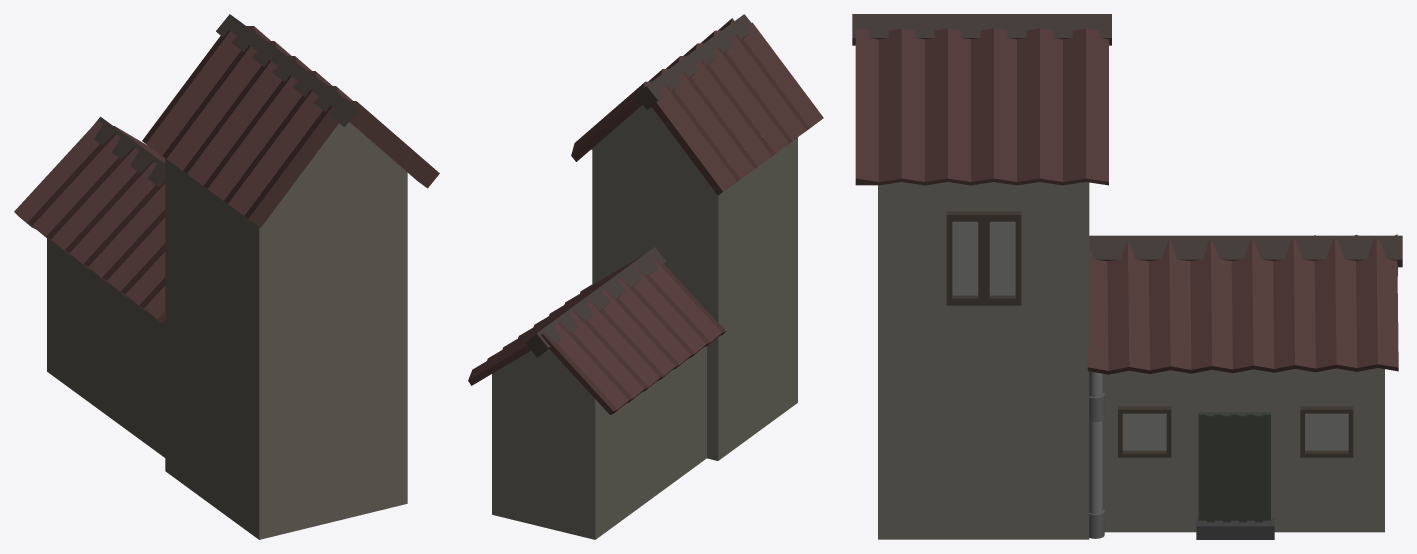
The model's file is HOUSE 1 RED ROOF.fbx.
3 views of the same model, side by side, from view 1: azimuth 30°, elevation 25°; view 2: azimuth 150°, elevation 25°; view 3: azimuth 270°, elevation 25° (orthographic). The views are drawn at different scales.
Visible parts, largest first — view 1: pCube1, pCube4, pCube6, pCube2, pCube11, pCube3, pCube12; view 2: pCube1, pCube2, pCube4, pCube6, pCube12, pCube11, pCube5, pCube3; view 3: pCube1, pCube3, pCube5, pCube2, pCube7, pCube10, pCube12, pCube11, pCube8, pCube9, pCylinder1, pCube13.
Part boxes in pixels (x1,y1,x2,y2): pCube1: (165,122,407,539); pCube4: (142,30,338,227); pCube6: (14,120,166,323); pCube2: (47,238,165,457); pCube11: (216,14,358,127); pCube3: (246,26,439,188); pCube12: (94,116,165,186); pCube1: (592,105,797,460); pCube2: (492,346,706,539); pCube4: (651,22,823,195); pCube6: (541,255,725,414); pCube12: (525,247,666,357); pCube11: (635,14,751,109); pCube5: (468,256,641,385); pCube3: (571,18,734,161); pCube1: (878,182,1089,539); pCube3: (855,28,1108,185); pCube5: (1087,238,1398,374); pCube2: (1103,368,1384,532); pCube7: (1198,412,1270,522); pCube10: (946,211,1021,305); pCube12: (1089,235,1402,267); pCube11: (852,14,1111,45); pCube8: (1118,406,1171,457); pCube9: (1300,406,1353,457); pCylinder1: (1089,371,1102,514); pCube13: (1196,518,1274,539).
Bounding box in the file's own units: 8.27 × 17.86 × 18.32.
